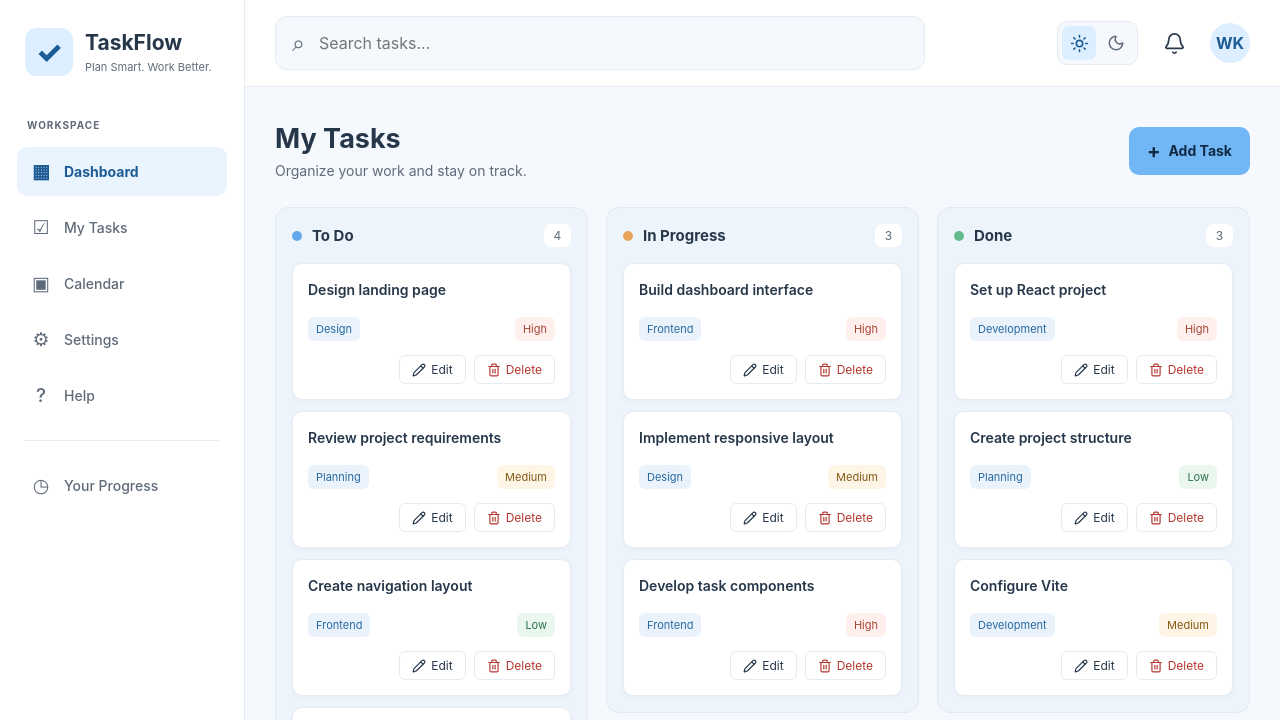
Test case: dashboard task statistics › creates a task in the selected column with the submitted details
The width and height of the screenshot is (1280, 720).
Step 1. Click the button "+ Add Task" → (1189,150), box [1129,126,1250,174]
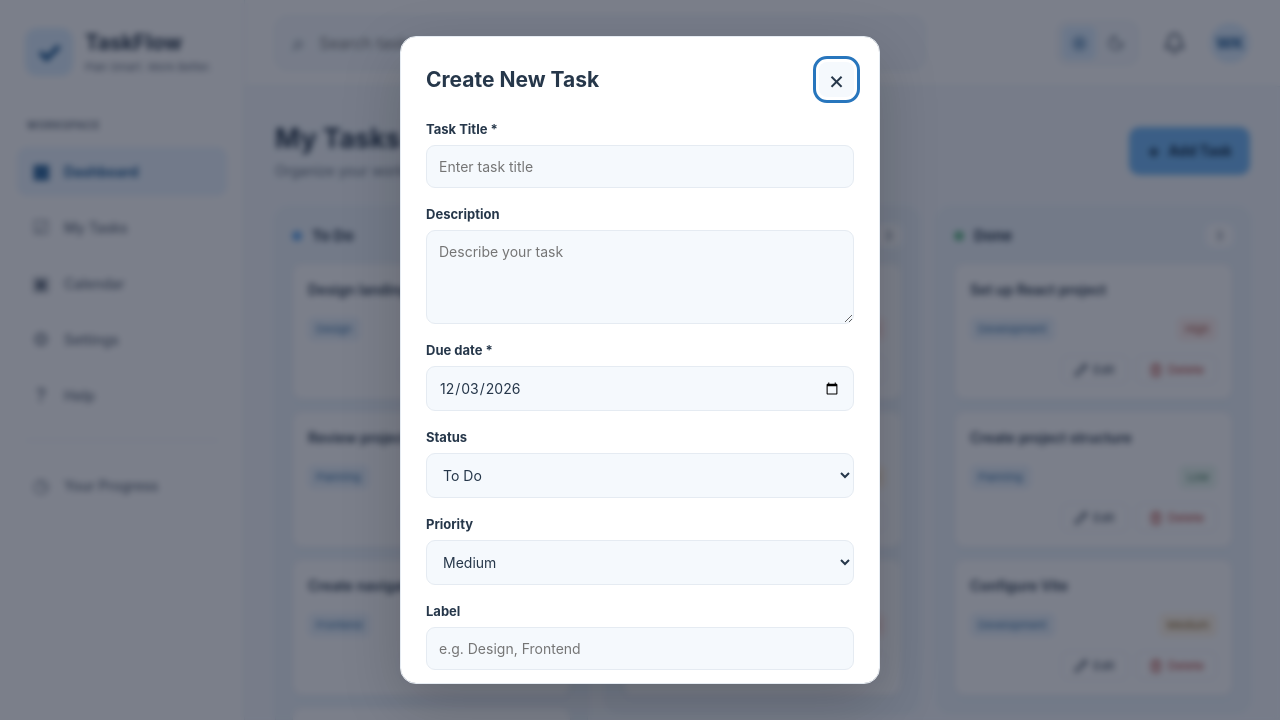
Step 2. Type "Ship release notes" into the field labelled "Task Title *" → (640,166), box [426,145,854,188]
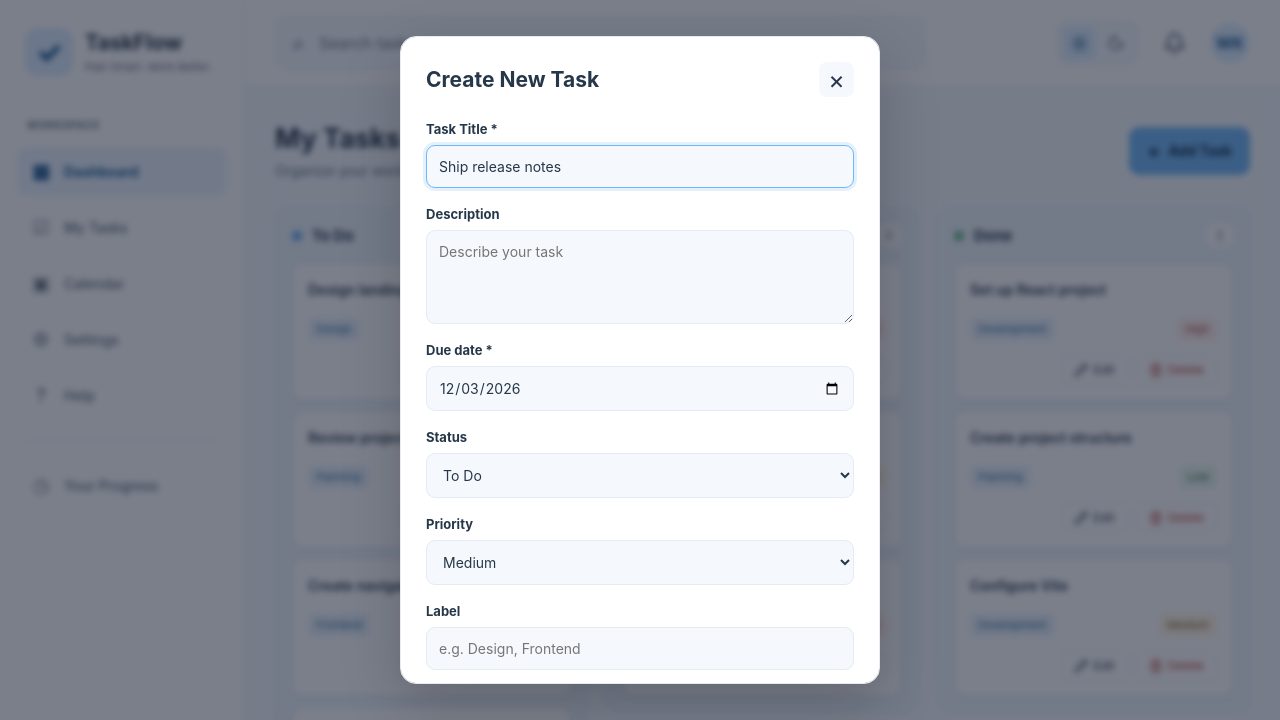
Step 3. Type "Summarize this release." into the text box labelled "Description" → (640,277), box [426,230,854,324]
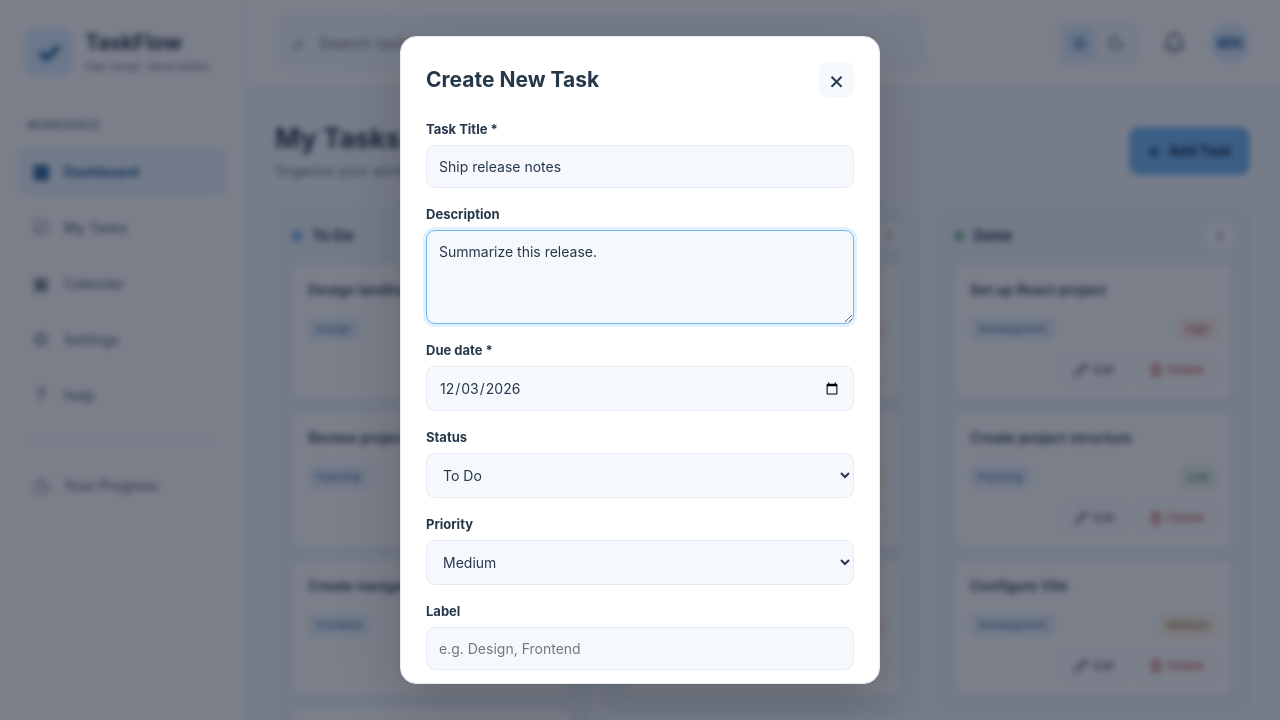
Step 4. Type "Release" into the field labelled "Label" → (640,648), box [426,627,854,670]
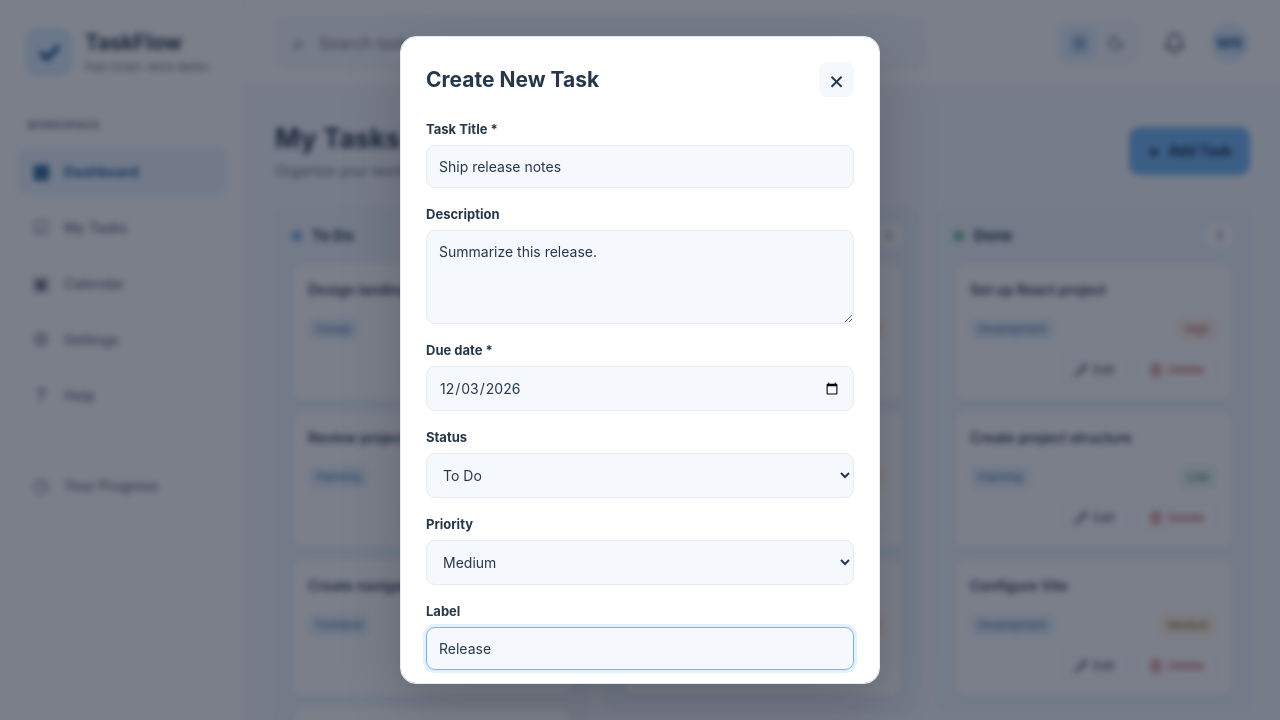
Step 5. Select "Done" in the dropdown labelled "Status" → (640,476), box [426,453,854,498]
(page scrolled)
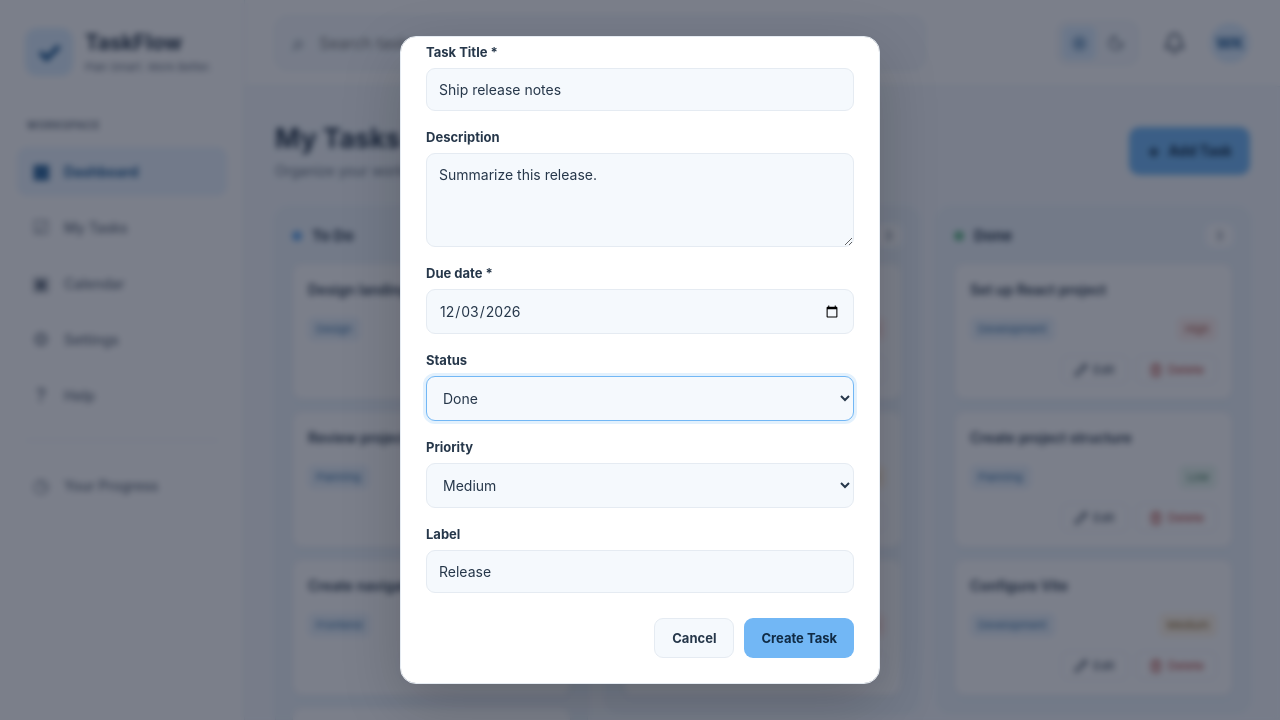
Step 6. Click the button "Create Task" → (799,638), box [744,618,854,658]
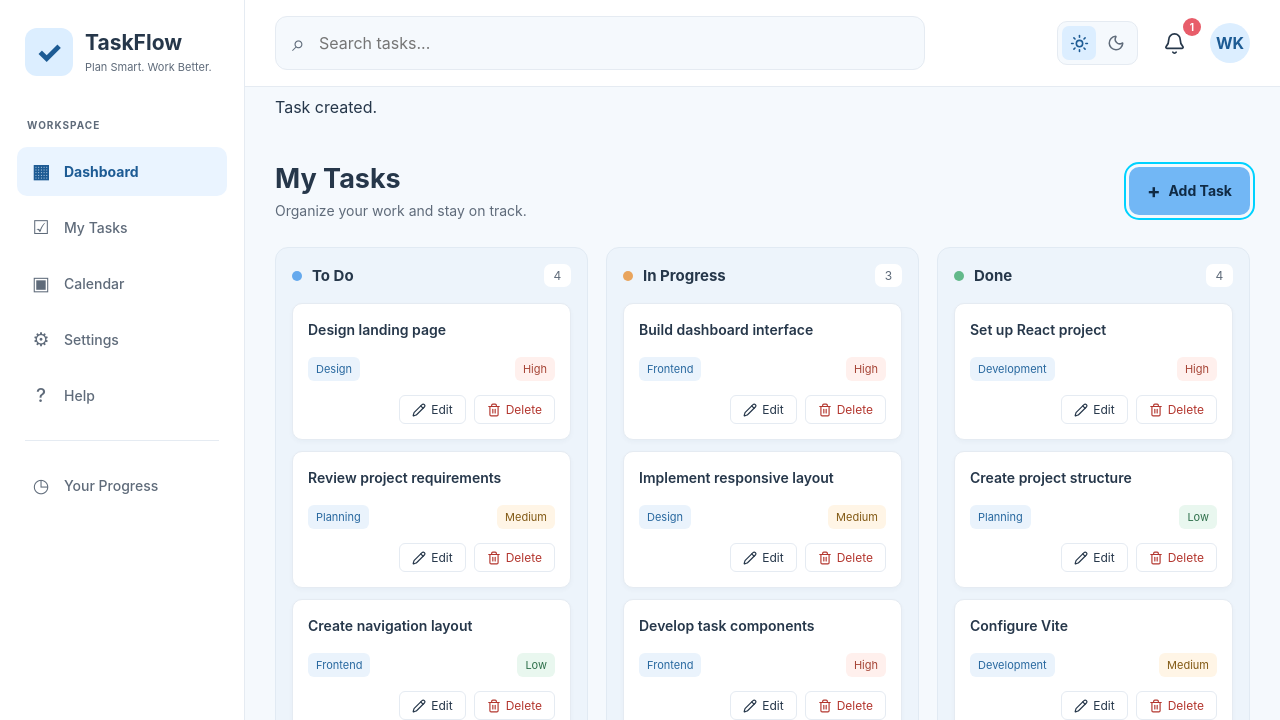
Now the text "4" in the row of "Done" is shown, box [1216,268,1223,283]
